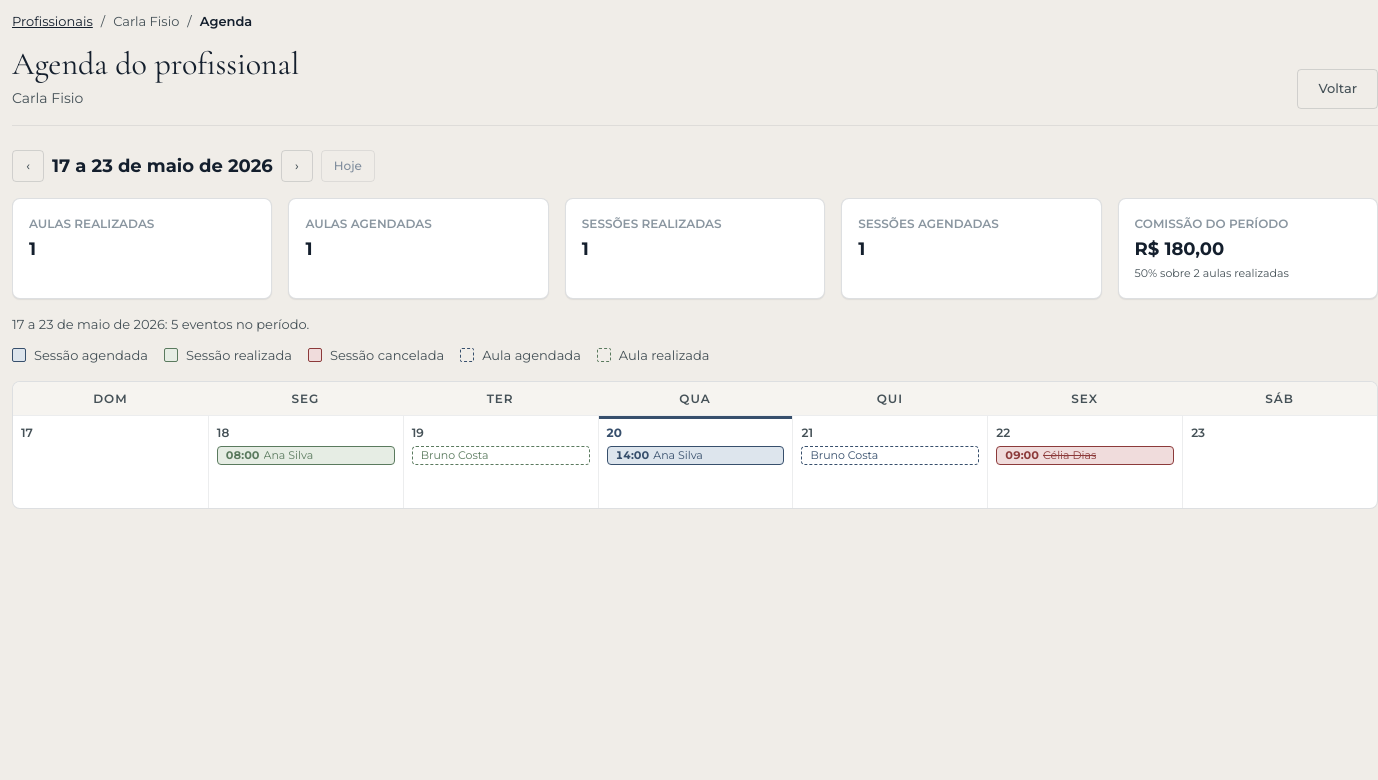
Test: ProfissionalAgendaComponent › should disable "Hoje" on the current week and re-enable it after navigating away
Expected: the button "Hoje" is disabled, [321, 150, 375, 182]
What coordinates should you click on to do the following:
click the button named "Semana anterior"
I would click on:
 (28, 166)
Its box is [12, 150, 44, 182].
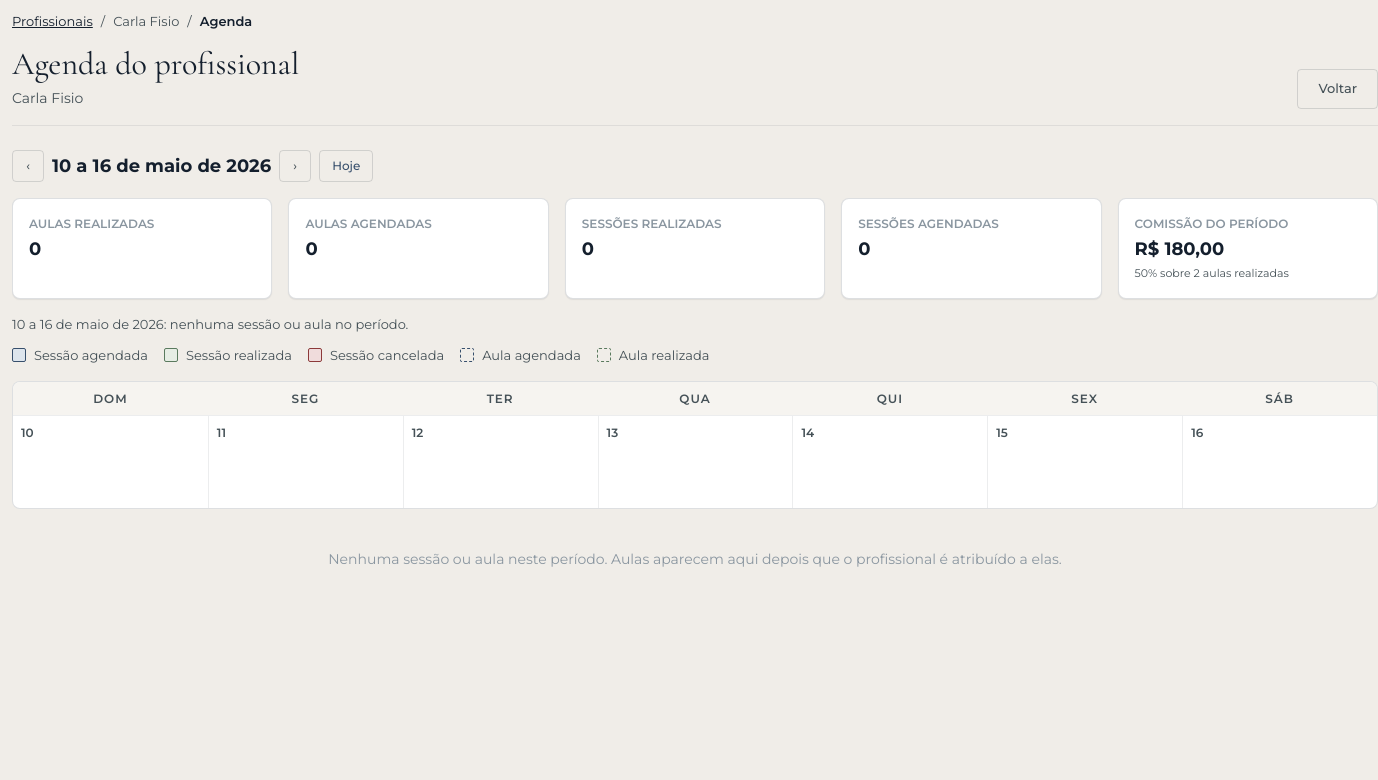
Expected: the button "Hoje" is enabled
What coordinates should you click on to do the following:
click the button "Hoje"
I would click on:
 (346, 166)
Its box is [319, 150, 373, 182].
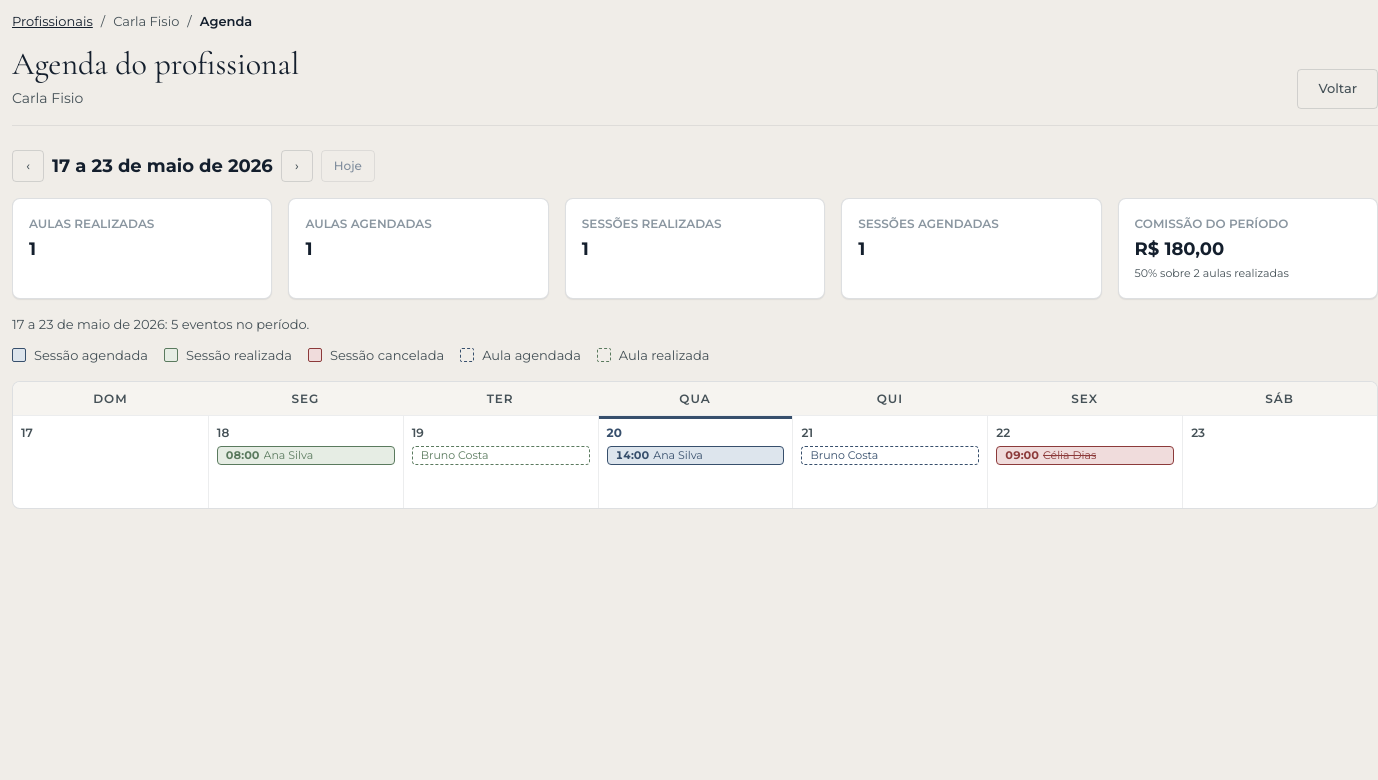
Expected: the button "Hoje" is disabled, [321, 150, 375, 182]
